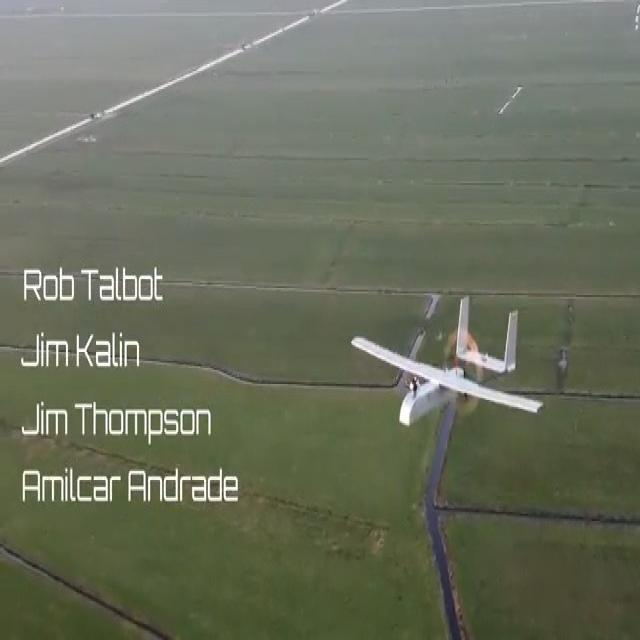iha: (348, 291, 544, 447)
